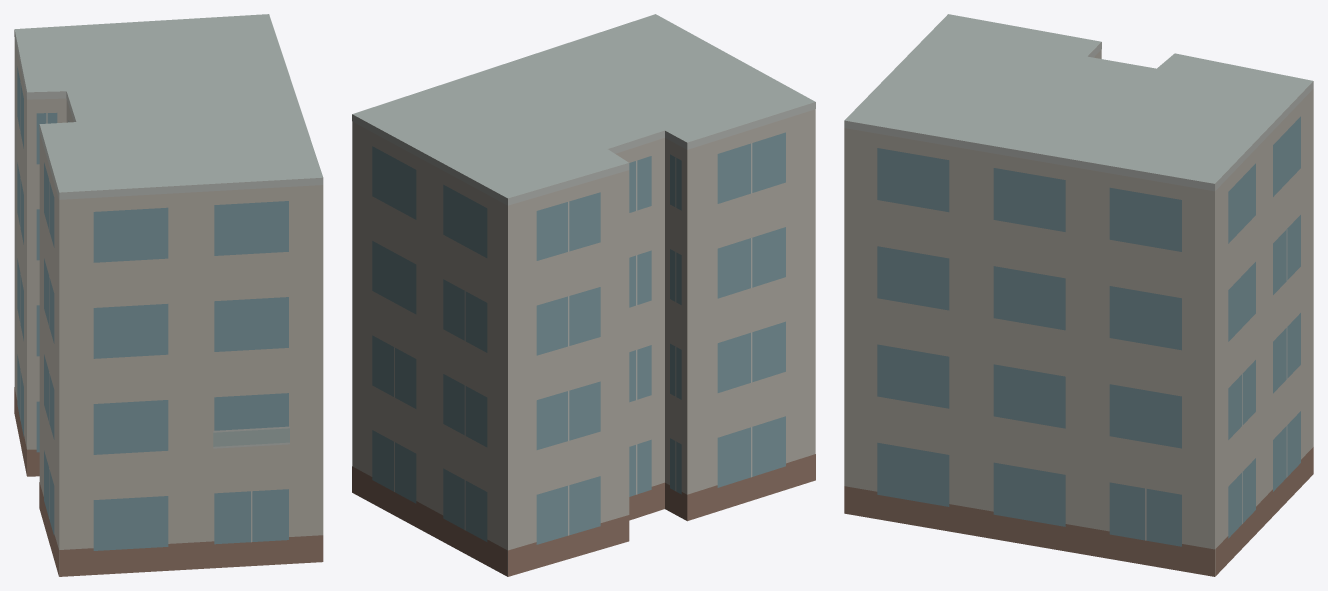
The model's file is survey-upis-32528280.glb.
3 views of the same model, side by side, from view 1: azimuth 30°, elevation 25°; view 2: azimuth 150°, elevation 25°; view 3: azimuth 270°, elevation 25° (orthographic). The views are drawn at different scales.
Parts seen in each view (by area): view 1: survey-upis-32528280.tmp; view 2: survey-upis-32528280.tmp; view 3: survey-upis-32528280.tmp.
Boxes of the visible parts, x1=… form: survey-upis-32528280.tmp: x1=14, y1=14, x2=323, y2=576; survey-upis-32528280.tmp: x1=352, y1=14, x2=815, y2=576; survey-upis-32528280.tmp: x1=844, y1=14, x2=1313, y2=576.
Size of the model in its own units: 11.88 by 12.8 by 13.86.
